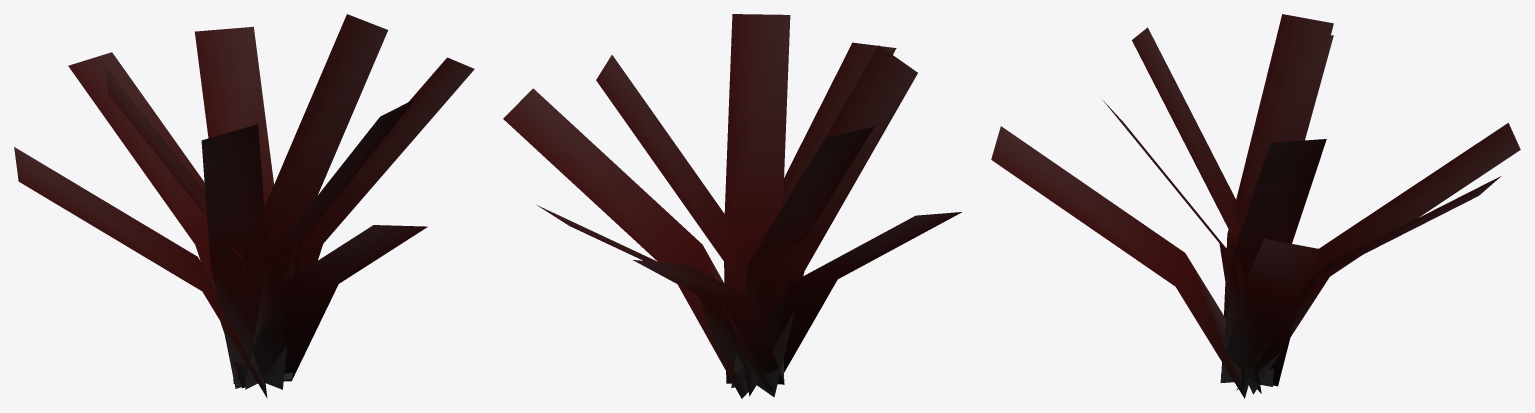
The model's file is 5_Weed 2.fbx.
3 renders of one model, left to right at view 1: azimuth 30°, elevation 25°; view 2: azimuth 150°, elevation 25°; view 3: azimuth 270°, elevation 25°, orthographic. The views are drawn at different scales.
Parts seen in each view (by area): view 1: 5_Weed.010; view 2: 5_Weed.010; view 3: 5_Weed.010.
Part boxes in pixels (left/top/right/bottom): 5_Weed.010: left=14, top=14, right=474, bottom=398; 5_Weed.010: left=503, top=14, right=961, bottom=398; 5_Weed.010: left=991, top=14, right=1520, bottom=398.
Size of the model in its own units: 102 by 69.8 by 106.
